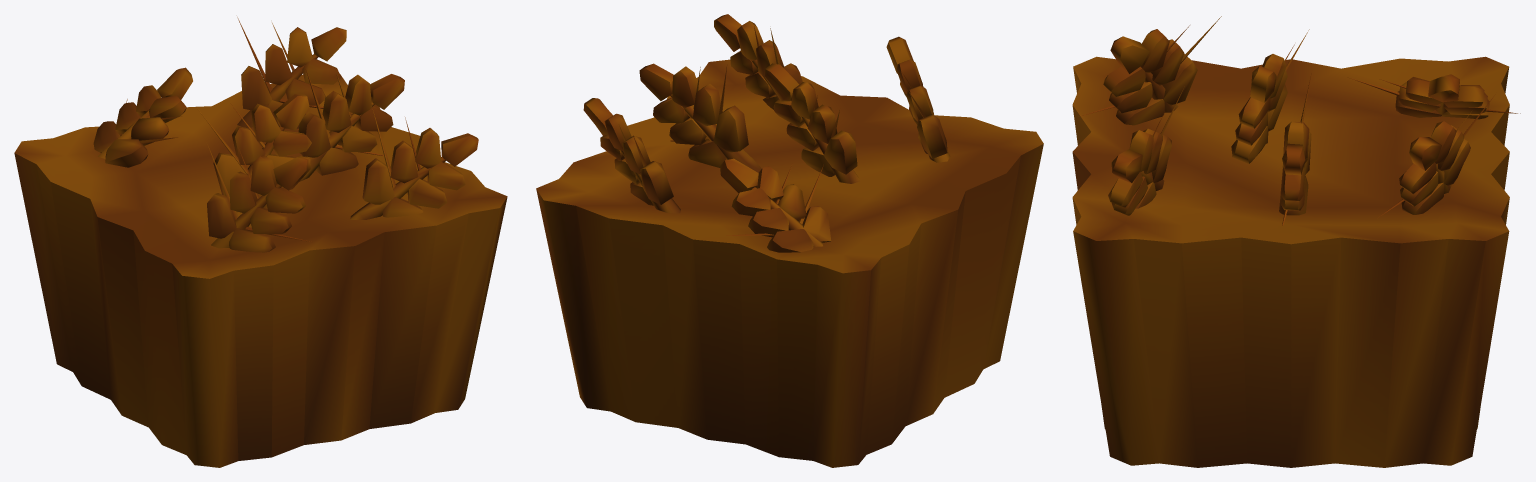
Rendered from Farm_Crop_Wheat_Dead.fbx.
3 renders of one model, left to right at view 1: azimuth 30°, elevation 25°; view 2: azimuth 150°, elevation 25°; view 3: azimuth 270°, elevation 25°, orthographic. The views are drawn at different scales.
Visible parts, largest first — view 1: Farm_Crop_Wheat_Dead; view 2: Farm_Crop_Wheat_Dead; view 3: Farm_Crop_Wheat_Dead.
Part boxes in pixels (box(x1,y1,x2,y2)): Farm_Crop_Wheat_Dead: box(14, 17, 507, 467); Farm_Crop_Wheat_Dead: box(536, 14, 1043, 467); Farm_Crop_Wheat_Dead: box(1072, 16, 1520, 467).
Bounding box in the file's own units: 201 × 176 × 206.
